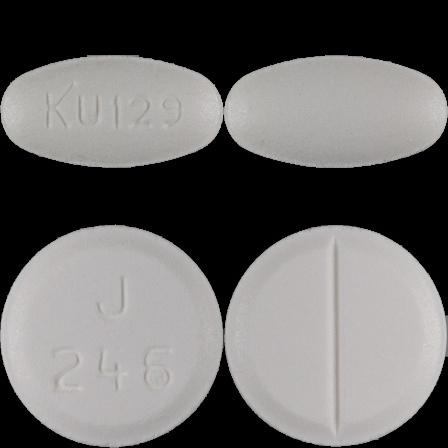50268-453: (0, 0, 224, 224)
